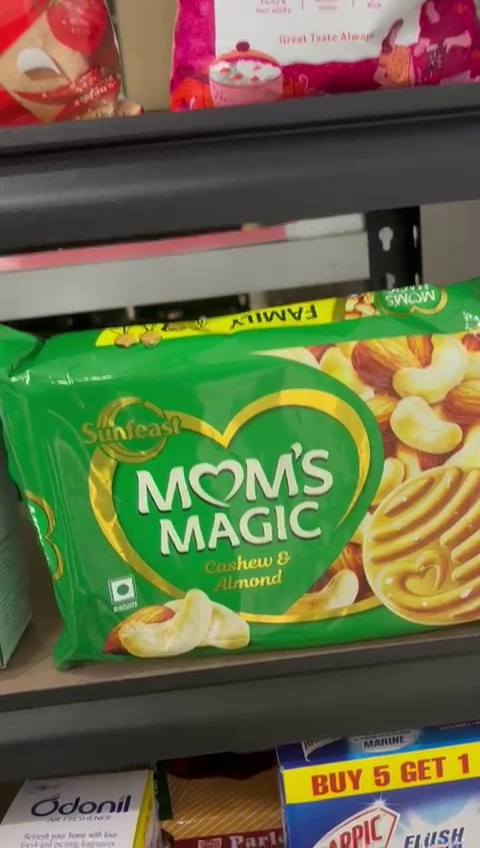Moms magic: (11, 332, 480, 642)
